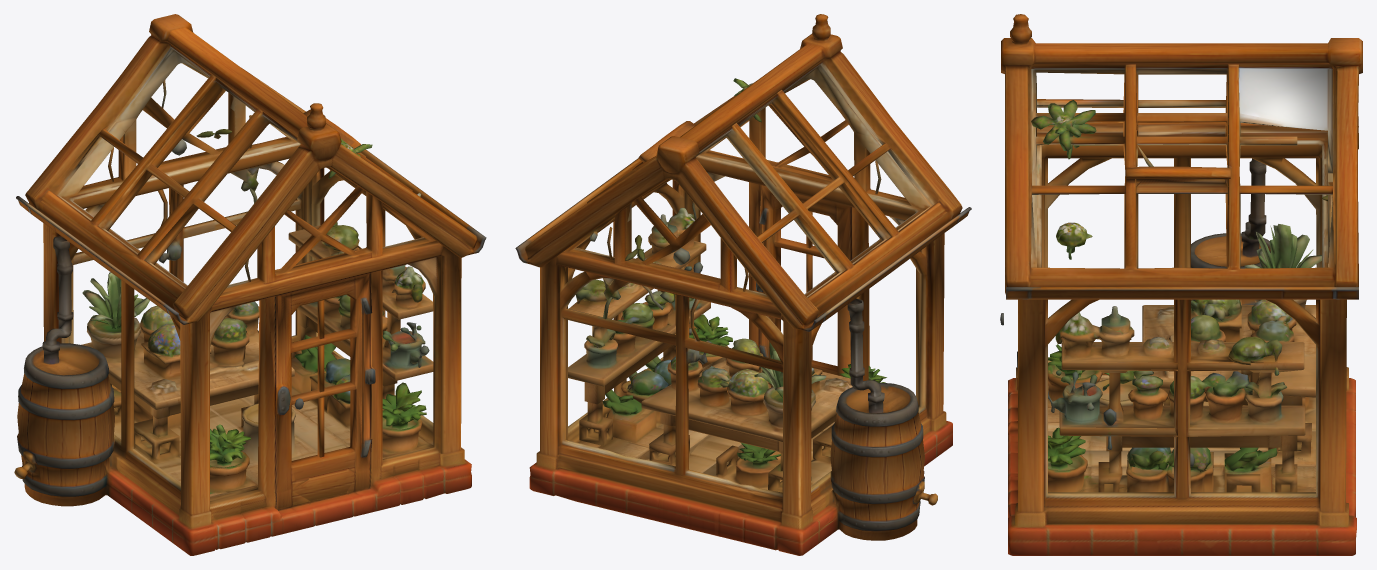
Rendered from greenhouse.glb.
The picture shows the model from 3 angles, left to right: view 1: azimuth 30°, elevation 25°; view 2: azimuth 150°, elevation 25°; view 3: azimuth 270°, elevation 25°; orthographic projection. The views are drawn at different scales.
Visible parts, largest first — view 1: tripo_node_08652826-d5f5-4005-9b93-8e08c2ce4e61; view 2: tripo_node_08652826-d5f5-4005-9b93-8e08c2ce4e61; view 3: tripo_node_08652826-d5f5-4005-9b93-8e08c2ce4e61.
Part boxes in pixels (<box>): tripo_node_08652826-d5f5-4005-9b93-8e08c2ce4e61: <box>14,14,486,555</box>; tripo_node_08652826-d5f5-4005-9b93-8e08c2ce4e61: <box>515,14,971,555</box>; tripo_node_08652826-d5f5-4005-9b93-8e08c2ce4e61: <box>1000,14,1362,555</box>.
Bounding box in the file's own units: 0.9165 × 0.9777 × 0.6984.
Materials: 1 (1 with a texture image).
